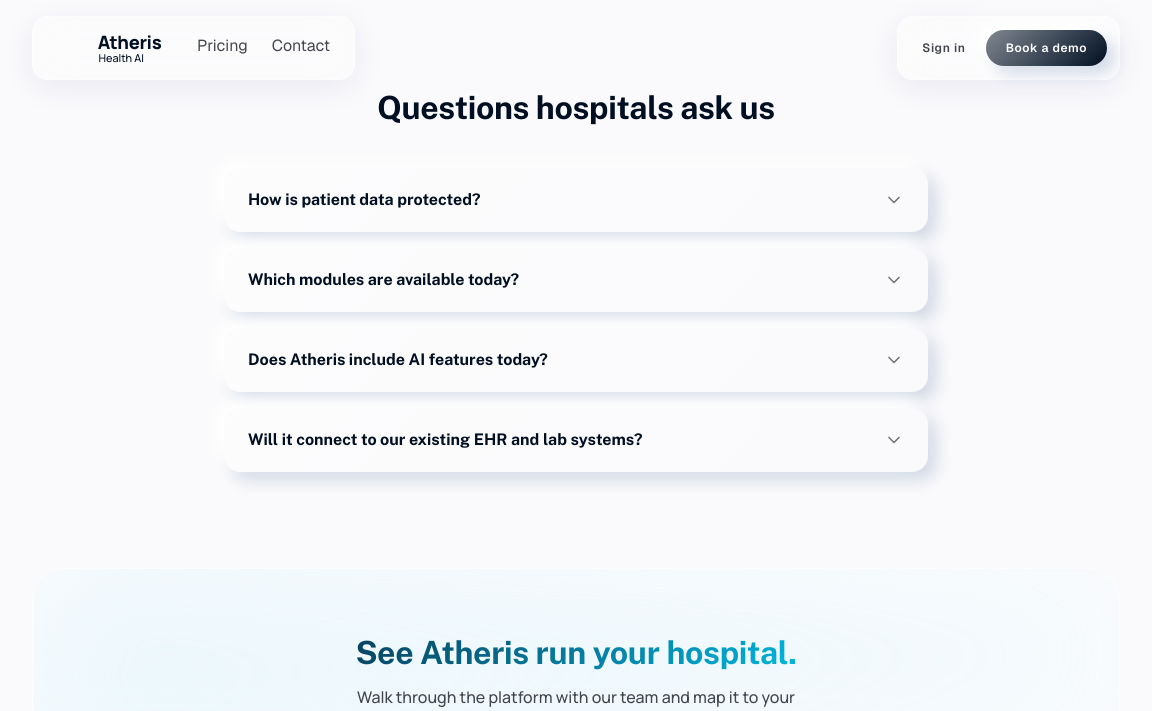
Scenario: the public pages › landing: the AI answer names one optional feature, and the list of modules names reports but no AI
(page scrolled)
Click the button "Does Atheris include AI features today?": [398, 360] box [224,328,928,392]
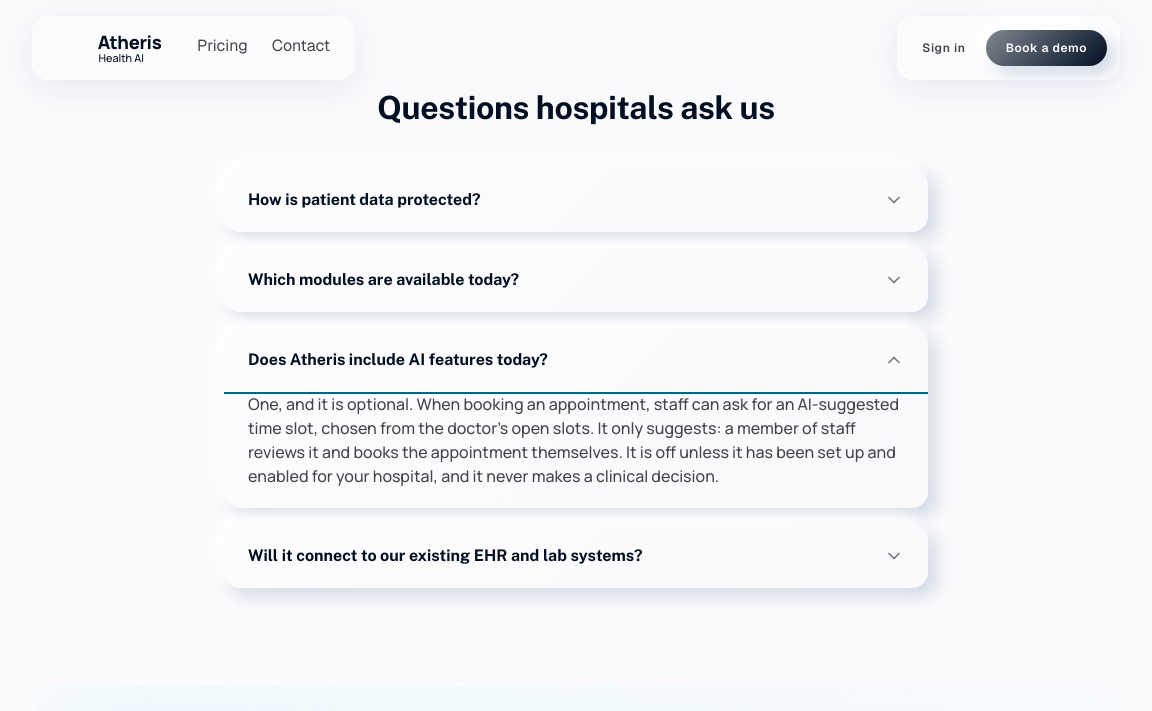
Expected: the text "One, and it is optional. When booking an appointment, staff can ask for an AI-suggested time slot" is shown, [248,393,899,487]
Click the button "Which modules are available today?": [383, 280] box [224,248,928,312]
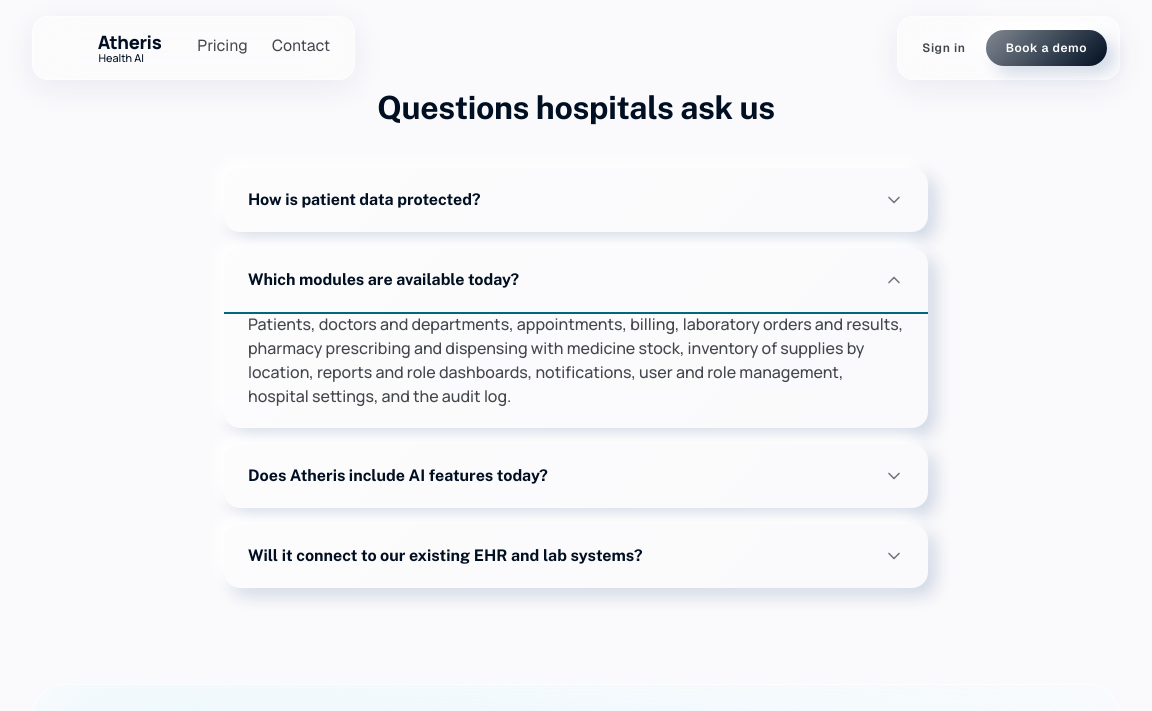
Expected: the text "Patients, doctors and departments, appointments, billing" shows "reports and role dashboards", [248,313,903,407]
